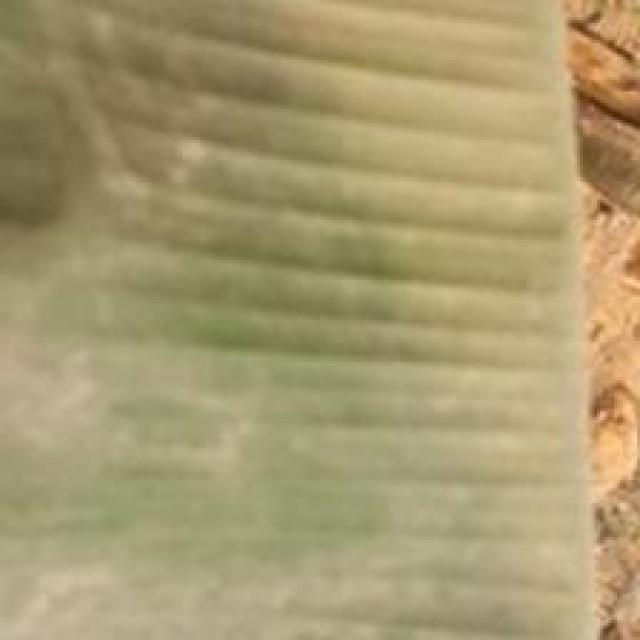Black_leaf_spot: (0, 0, 611, 634)
